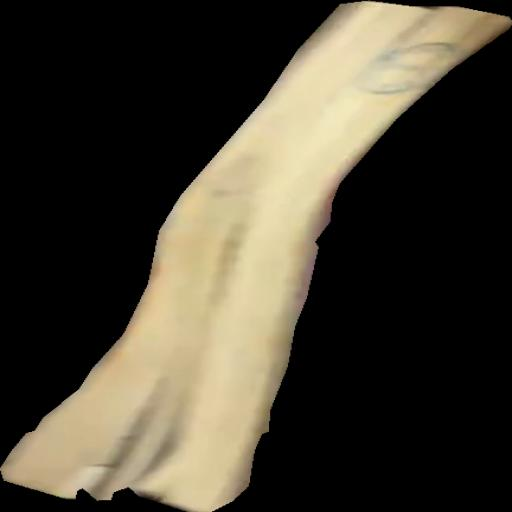backward: (1, 1, 512, 512)
